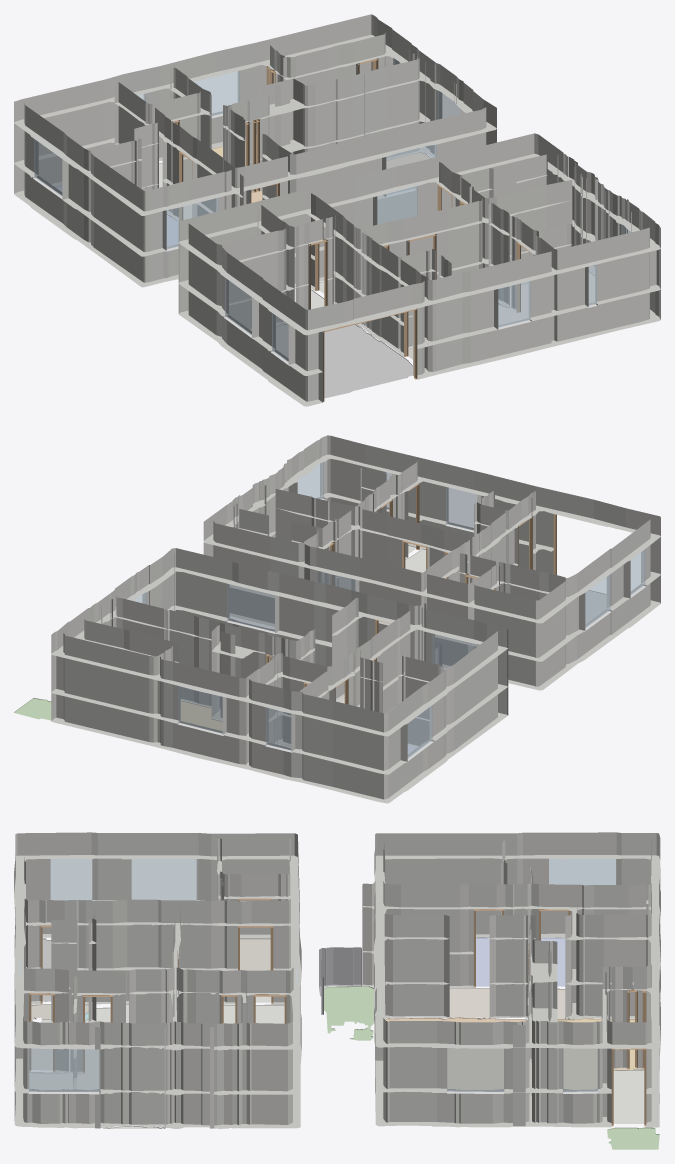
3 views of the same model, one above another, from view 1: azimuth 30°, elevation 25°; view 2: azimuth 150°, elevation 25°; view 3: azimuth 270°, elevation 25° (orthographic). The views are drawn at different scales.
Visible parts, largest first — view 1: walls, floor_12_Garage, window_32, window_28, window_22, window_23, window_26, window_29, floor_15_Undefined, window_27, window_31, door_20; view 2: walls, window_27, window_22, window_32, window_26, window_29, window_21, window_23, floor_2_Kitchen, window_30, floor_1_Outdoor, window_31 (+1 smaller); view 3: walls, floor_15_Undefined, window_30, floor_3_Living_Room, window_29, window_25, floor_0_Outdoor, floor_2_Kitchen, window_31, railings, window_23, floor_18_Undefined (+6 smaller).
Boxes of the visible parts, bbox=[...] form: walls: bbox=[14, 14, 660, 406]; floor_12_Garage: bbox=[276, 324, 412, 398]; window_32: bbox=[498, 280, 530, 327]; window_28: bbox=[377, 184, 417, 224]; window_22: bbox=[194, 70, 239, 115]; window_23: bbox=[34, 136, 65, 195]; window_26: bbox=[165, 197, 218, 248]; window_29: bbox=[225, 278, 255, 335]; floor_15_Undefined: bbox=[319, 271, 594, 324]; window_27: bbox=[386, 144, 436, 194]; window_31: bbox=[272, 313, 288, 362]; door_20: bbox=[323, 308, 417, 401]; walls: bbox=[51, 435, 660, 803]; window_27: bbox=[227, 584, 274, 631]; window_22: bbox=[178, 686, 224, 733]; window_32: bbox=[446, 487, 477, 530]; window_26: bbox=[432, 634, 478, 670]; window_29: bbox=[582, 572, 610, 628]; window_21: bbox=[266, 707, 291, 750]; window_23: bbox=[404, 705, 432, 758]; floor_2_Kitchen: bbox=[181, 700, 222, 730]; window_30: bbox=[297, 462, 323, 499]; floor_1_Outdoor: bbox=[14, 698, 51, 720]; window_31: bbox=[630, 549, 645, 594]; walls: bbox=[14, 832, 660, 1128]; floor_15_Undefined: bbox=[29, 1004, 284, 1089]; window_30: bbox=[29, 1048, 99, 1091]; floor_3_Living_Room: bbox=[385, 1017, 527, 1089]; window_29: bbox=[131, 859, 196, 900]; window_25: bbox=[447, 1046, 503, 1091]; floor_0_Outdoor: bbox=[324, 986, 373, 1040]; floor_2_Kitchen: bbox=[557, 1018, 643, 1089]; window_31: bbox=[50, 859, 92, 900]; railings: bbox=[319, 947, 361, 1014]; window_23: bbox=[549, 858, 615, 885]; floor_18_Undefined: bbox=[613, 1070, 644, 1123].
Size of the model in its own units: 12.31 by 2.72 by 15.65.
